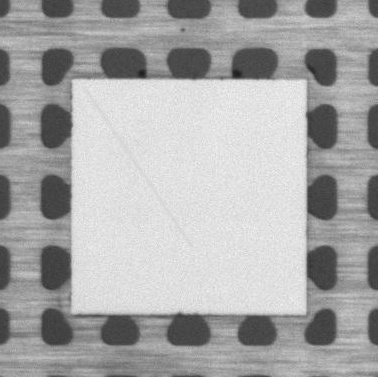DIE_CRACK: (84, 87, 192, 244)
